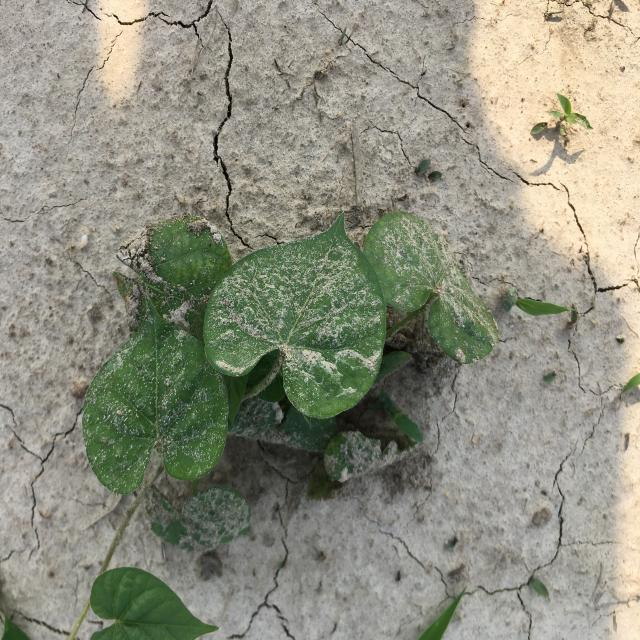MorningGlory: (70, 210, 501, 640)
